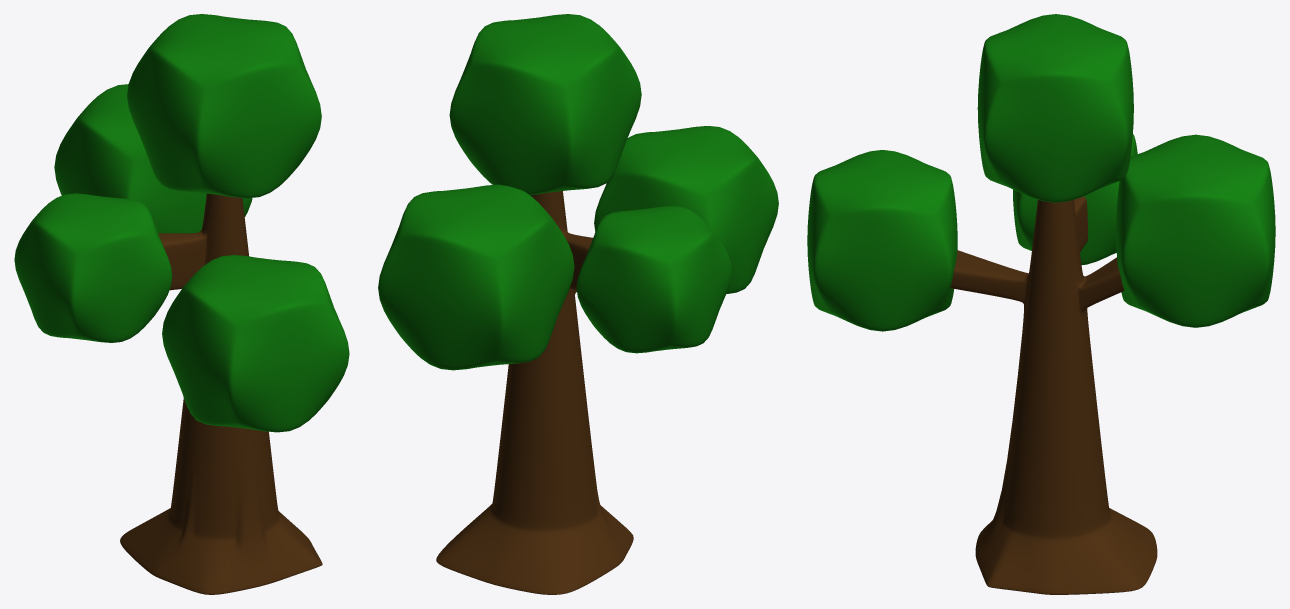
File: tree3.fbx
3 views of the same model, side by side, from view 1: azimuth 30°, elevation 25°; view 2: azimuth 150°, elevation 25°; view 3: azimuth 270°, elevation 25° (orthographic).
Parts seen in each view (by area): view 1: tree.002; view 2: tree.002; view 3: tree.002.
Boxes of the visible parts, bbox=[...] form: tree.002: bbox=[14, 14, 349, 594]; tree.002: bbox=[378, 14, 778, 594]; tree.002: bbox=[807, 14, 1275, 594].
Size of the model in its own units: 0.5393 by 1.05 by 0.8569.
